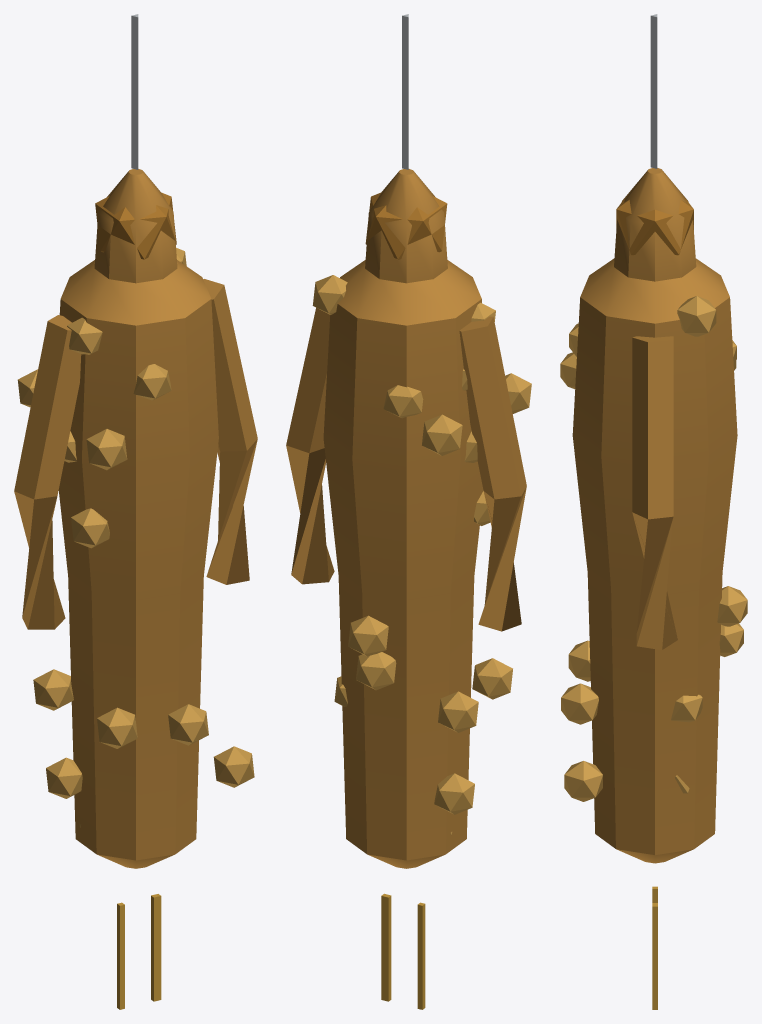
Rendered from battered_body.glb.
The picture shows the model from 3 angles, left to right: view 1: azimuth 30°, elevation 25°; view 2: azimuth 150°, elevation 25°; view 3: azimuth 270°, elevation 25°; orthographic projection.
Visible parts, largest first — view 1: battered_body; view 2: battered_body; view 3: battered_body.
Part boxes in pixels (x1,y1,x2,y2): battered_body: [14, 14, 257, 1009]; battered_body: [286, 14, 531, 1009]; battered_body: [560, 14, 747, 1009].
Size of the model in its own units: 0.7136 by 2.85 by 0.4926.
